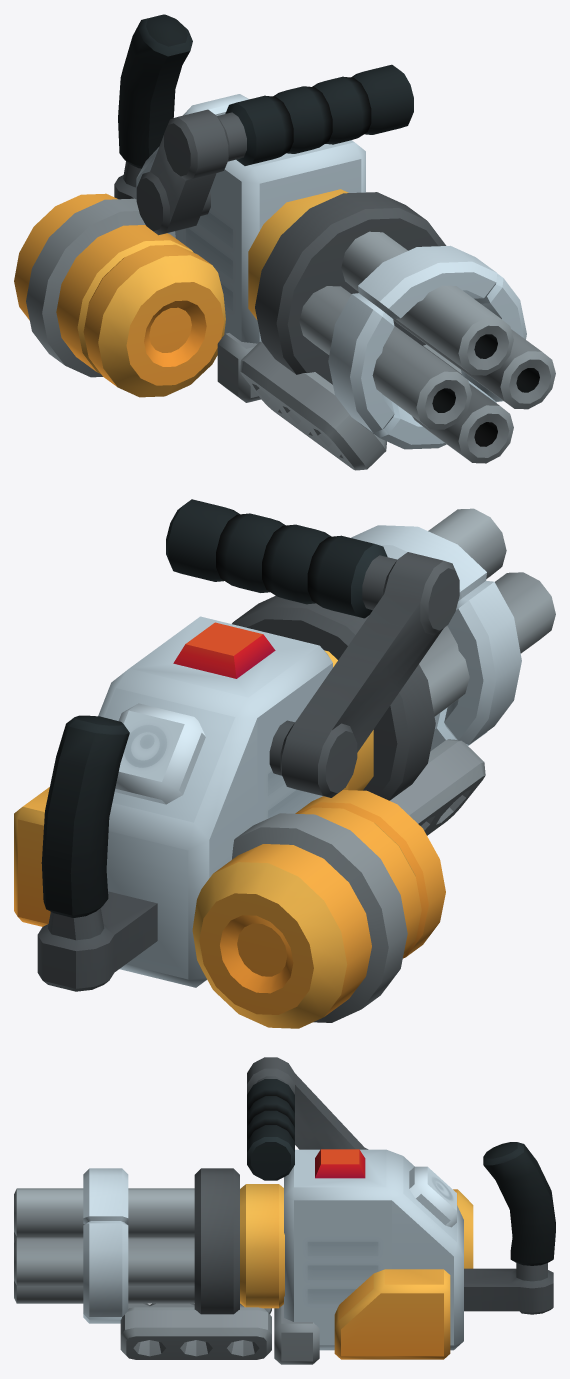
The model's file is CombatMech_Minigun.fbx.
3 views of the same model, one above another, from view 1: azimuth 30°, elevation 25°; view 2: azimuth 150°, elevation 25°; view 3: azimuth 270°, elevation 25° (orthographic). The views are drawn at different scales.
Visible parts, largest first — view 1: CombatMech_Minigun, CombatMech_Minigun_Barrel; view 2: CombatMech_Minigun, CombatMech_Minigun_Barrel; view 3: CombatMech_Minigun, CombatMech_Minigun_Barrel.
Part boxes in pixels (x1,y1,x2,y2): CombatMech_Minigun: [14, 14, 461, 470]; CombatMech_Minigun_Barrel: [255, 192, 555, 463]; CombatMech_Minigun: [14, 499, 485, 1028]; CombatMech_Minigun_Barrel: [232, 508, 555, 800]; CombatMech_Minigun: [120, 1057, 555, 1364]; CombatMech_Minigun_Barrel: [14, 1168, 239, 1323].
Bounding box in the file's own units: 0.6441 × 0.6514 × 1.31.
